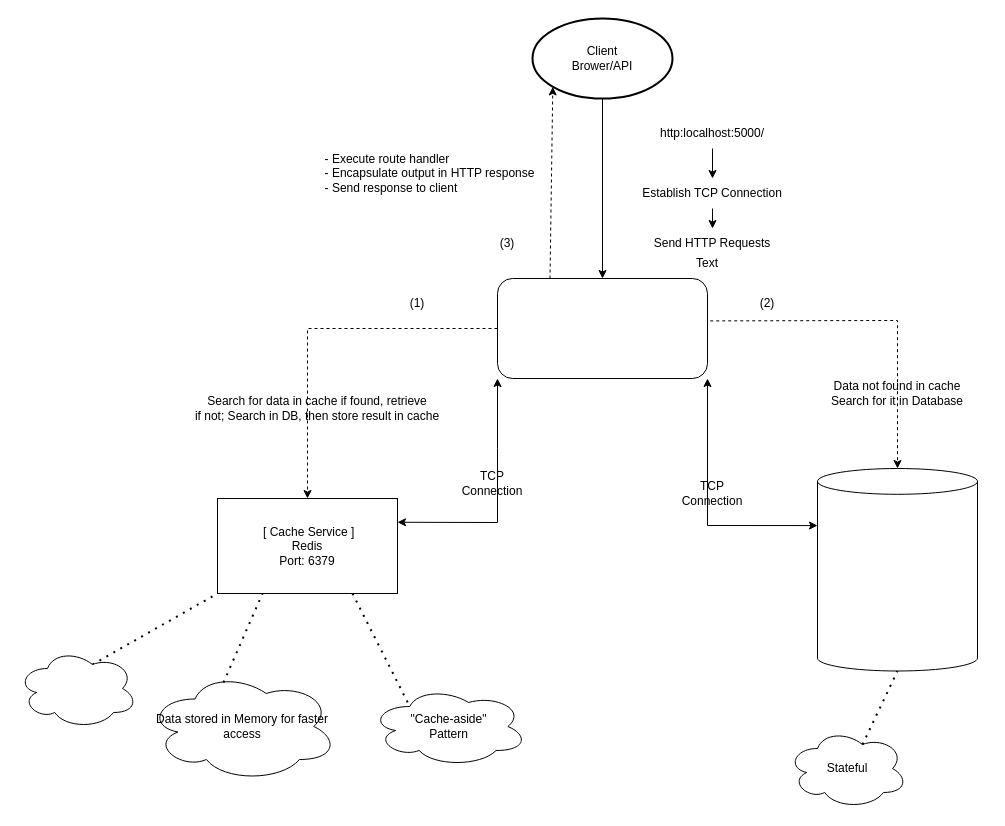
Image size: 1005x826. Some labels were removed from this diagram. The centre of each missing label's shape, as x and y in pixels:
"[ Database Service ] PostgreSQL Port: 5432" belongs at (897,569).
"Application Logic [ Backend Service ] Flask API Port: 5000" belongs at (602,328).
"Semi- Stateful" belongs at (77,688).
